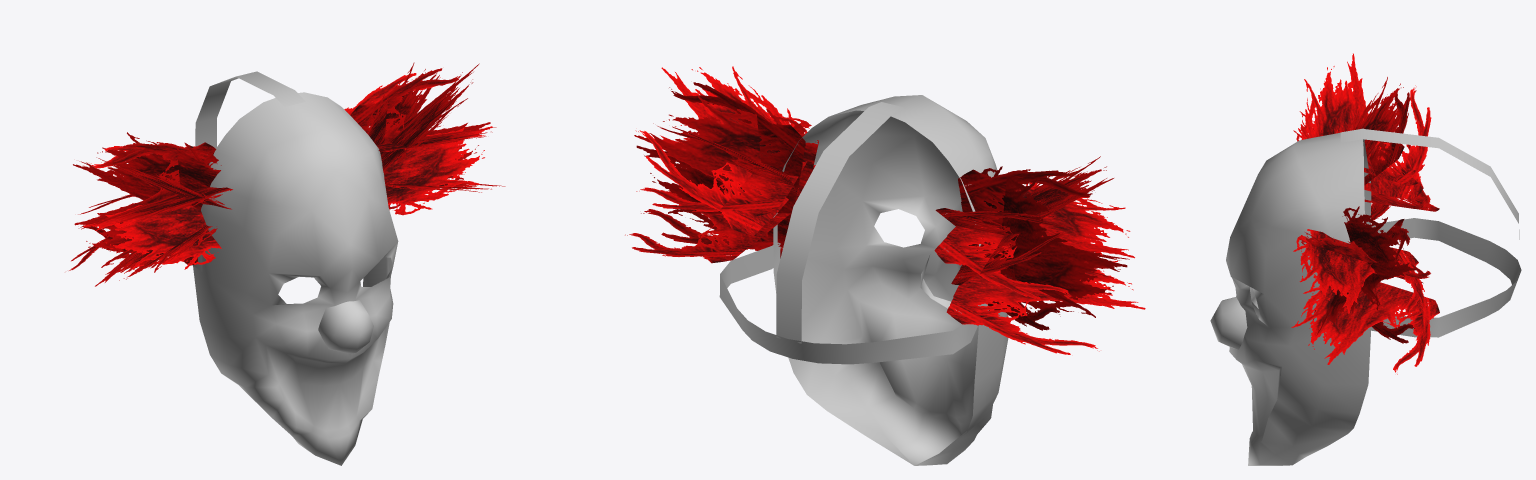
File: Mask_C.fbx
The picture shows the model from 3 angles, left to right: view 1: azimuth 30°, elevation 25°; view 2: azimuth 150°, elevation 25°; view 3: azimuth 270°, elevation 25°; orthographic projection. The views are drawn at different scales.
Parts seen in each view (by area): view 1: Mask_C; view 2: Mask_C; view 3: Mask_C.
Boxes of the visible parts, x1,y1,x2,y2 form: Mask_C: (69, 62, 505, 465); Mask_C: (625, 66, 1145, 465); Mask_C: (1210, 53, 1521, 465).
Size of the model in its own units: 43.72 by 31.98 by 25.27.
